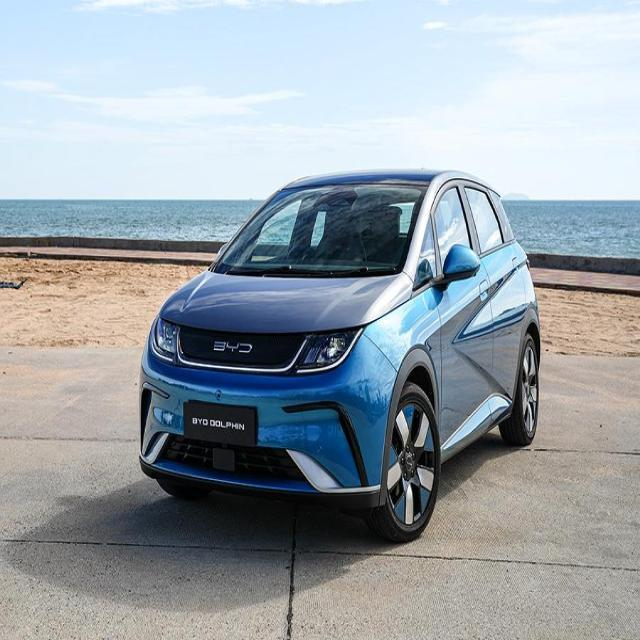Hatchback: (140, 170, 539, 542)
